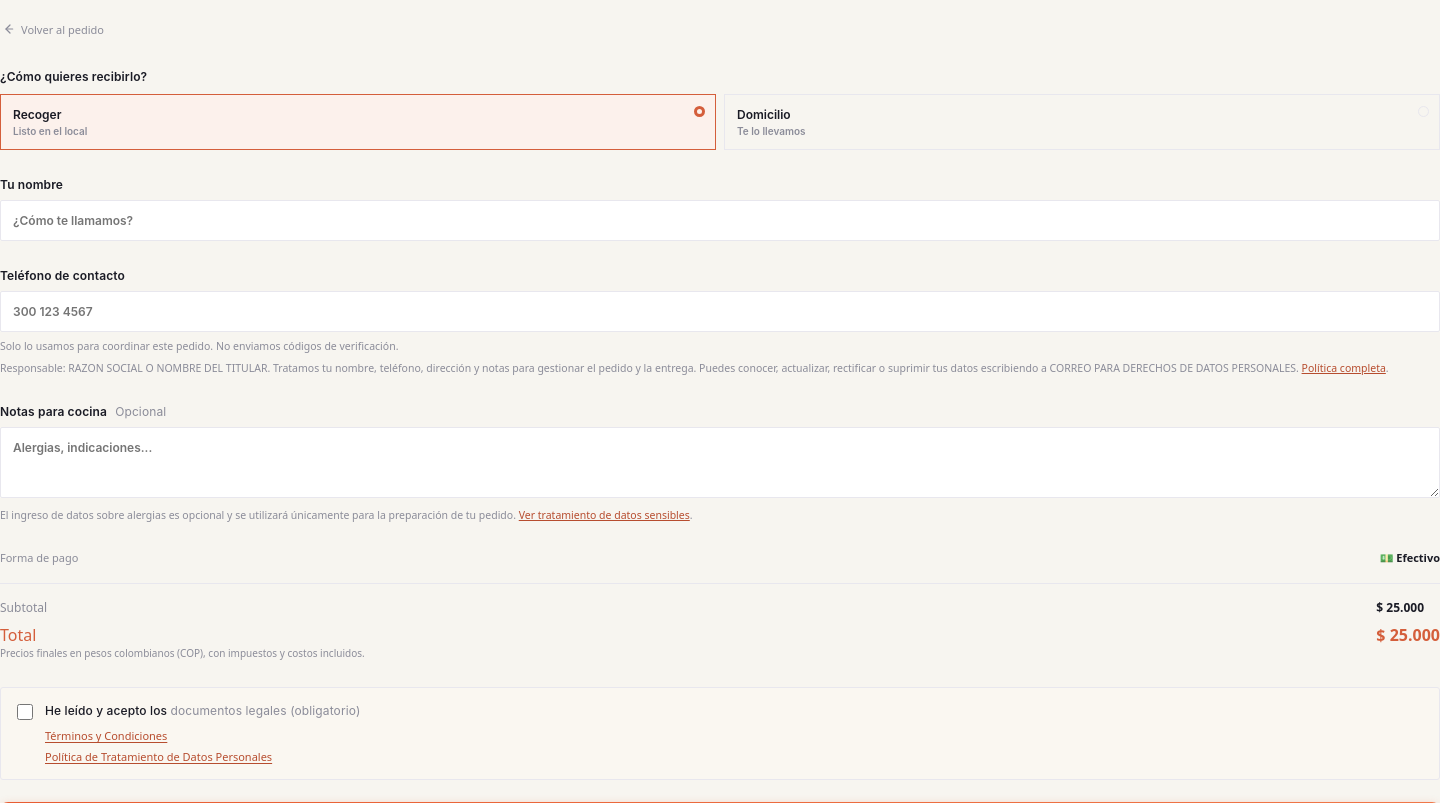
checkout consent and phone › opens the legal documents in a modal without leaving the checkout
Click the link "Términos y Condiciones": coordinates (106, 736) [45,728,167,743]
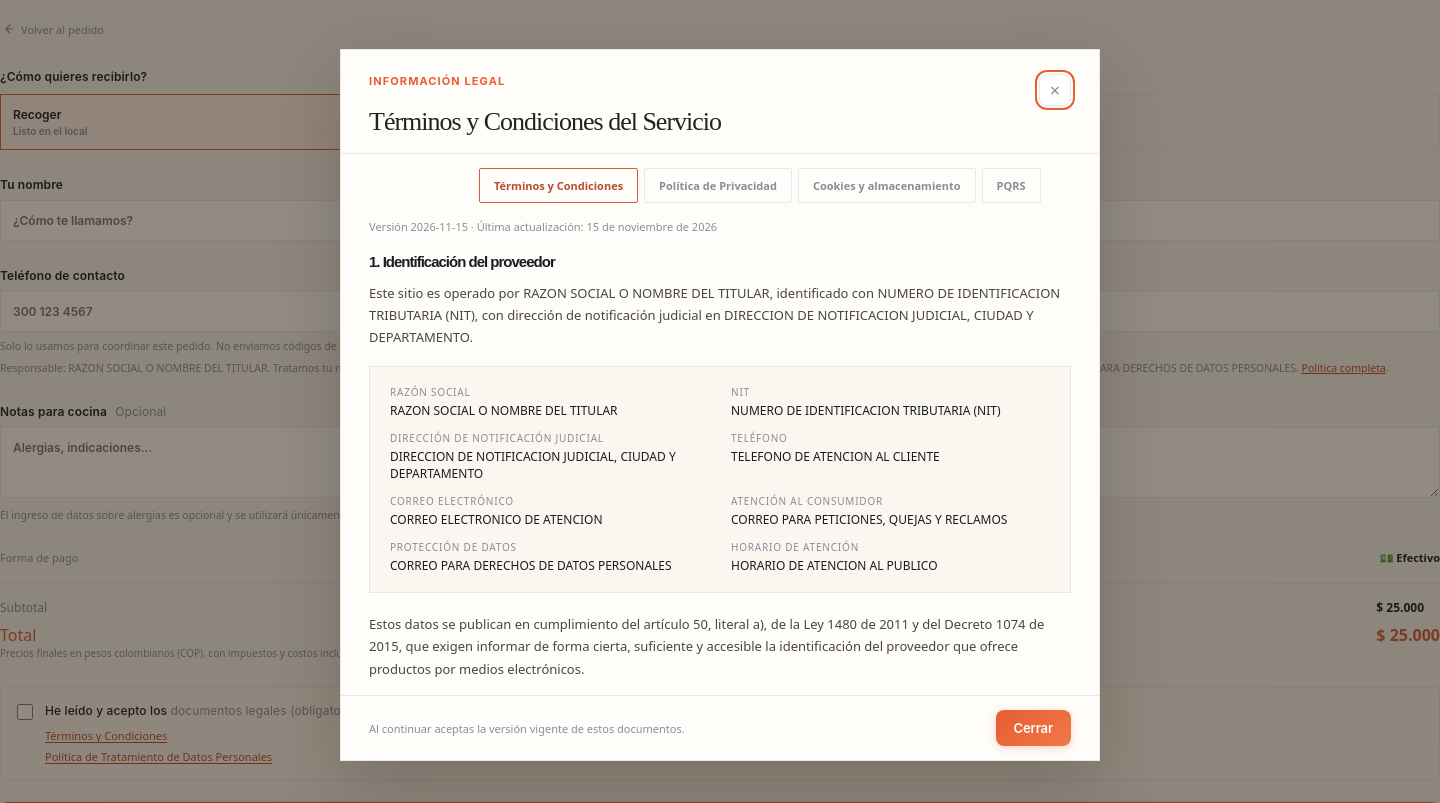
Expected: the dialog is shown, [340,49,1100,761]
Expected: the heading "Términos y Condiciones del Servicio" is shown, [369,106,721,137]
Press Escape
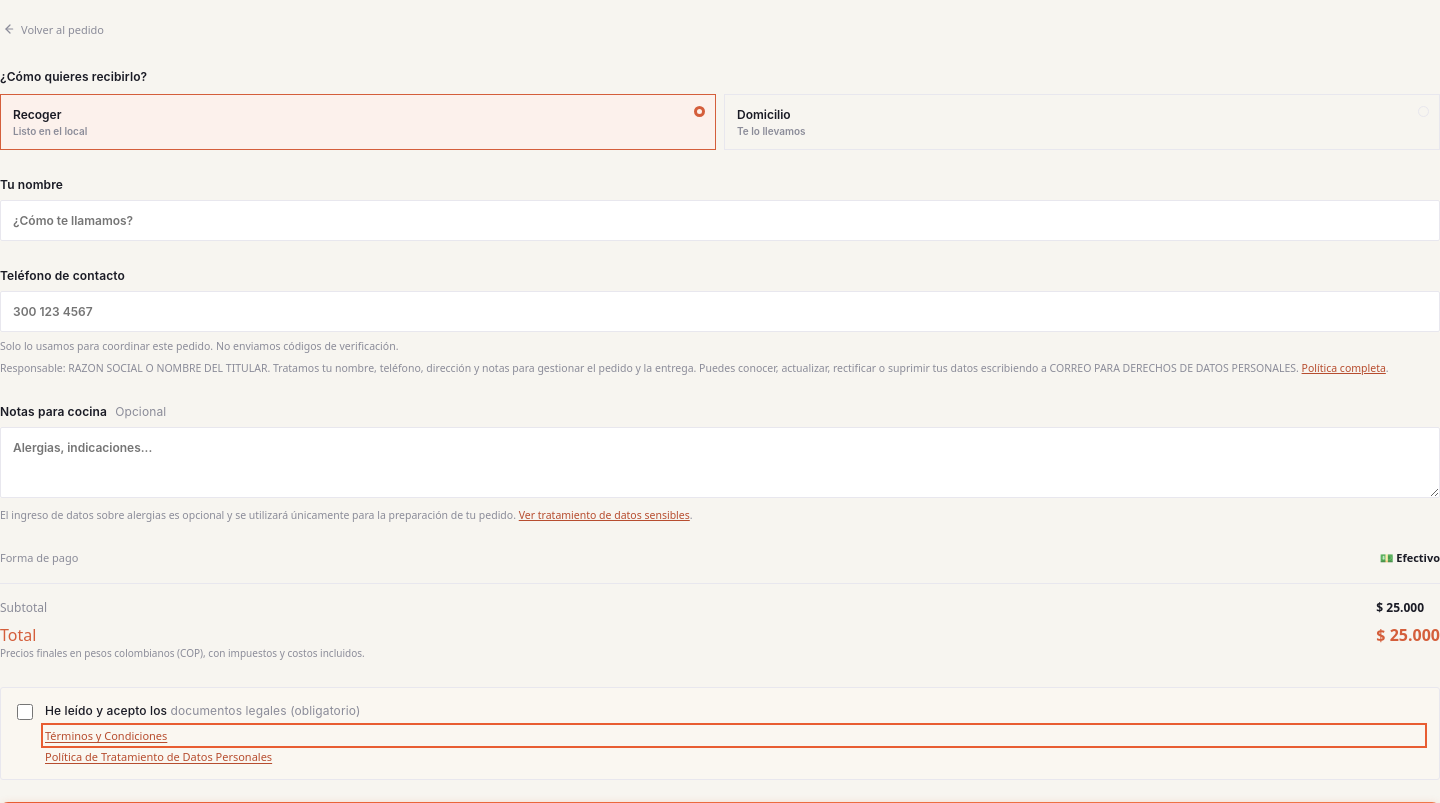
Expected: the dialog is gone
